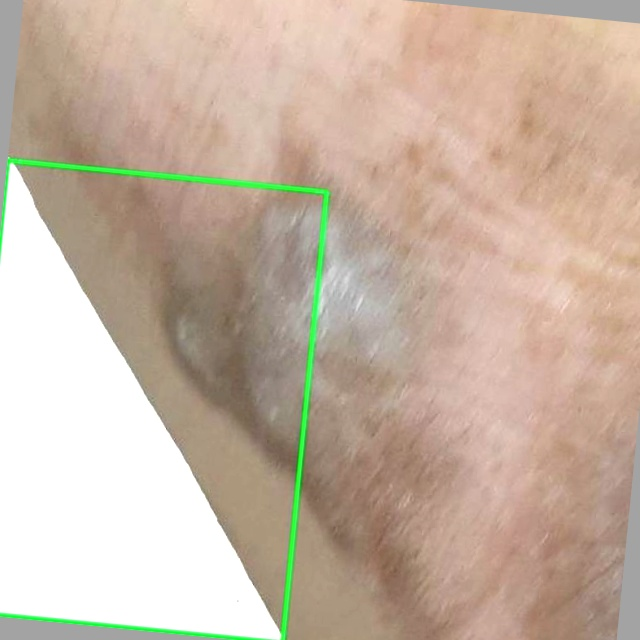Contact Dermatitis: (0, 161, 326, 639)
